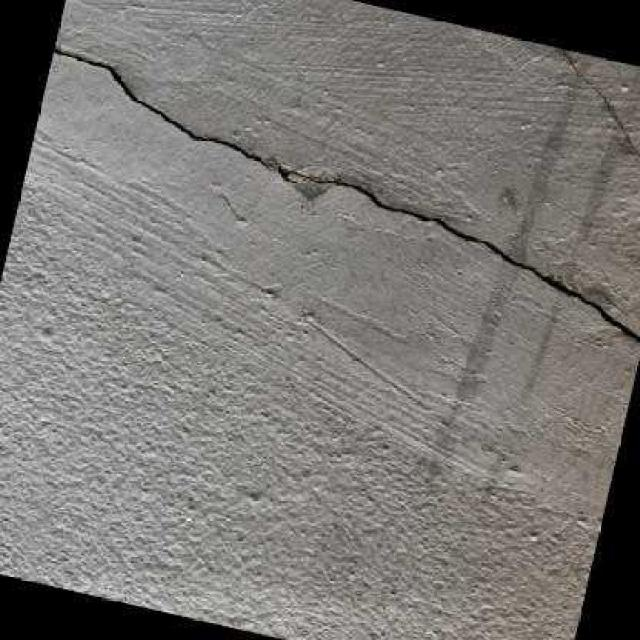D00: (53, 45, 640, 343)
